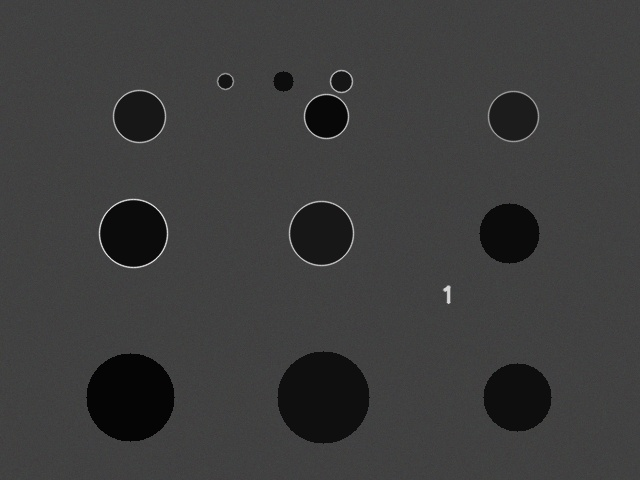hole: (277, 351, 369, 443), (86, 353, 174, 441), (99, 199, 167, 267), (483, 363, 551, 431), (289, 201, 353, 265), (479, 203, 539, 263), (113, 90, 165, 142), (488, 91, 538, 141), (304, 94, 348, 138), (330, 70, 352, 92), (273, 71, 293, 91), (217, 73, 233, 89)
